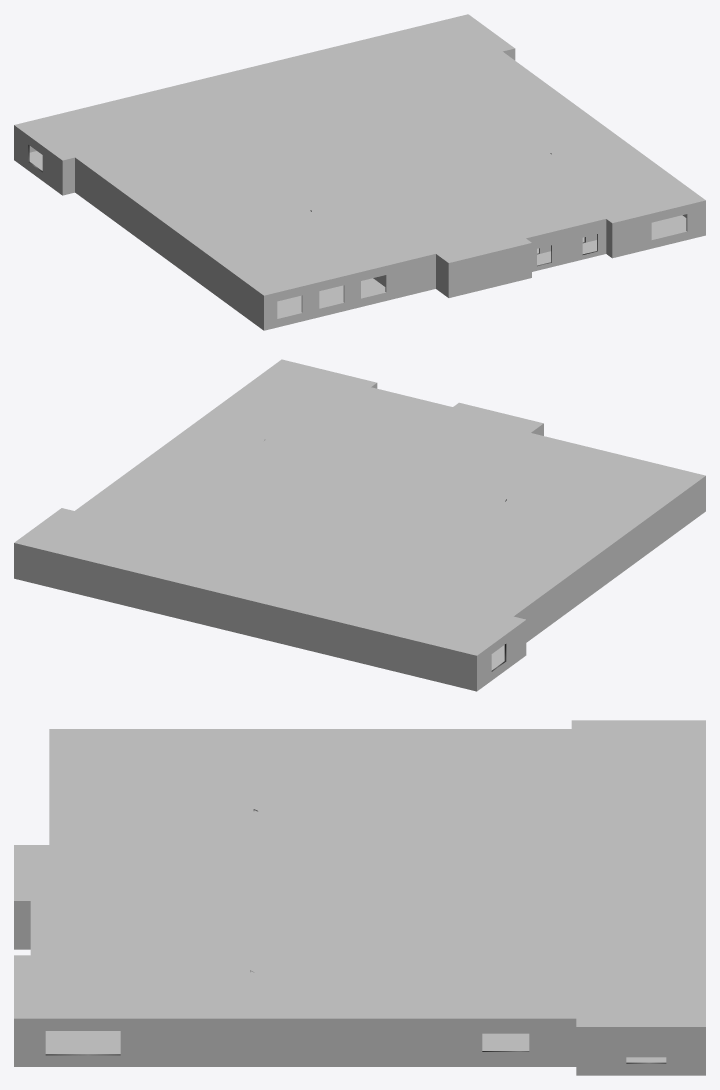
Rendered from Library.fbx.
3 renders of one model, top to bottom at view 1: azimuth 30°, elevation 25°; view 2: azimuth 150°, elevation 25°; view 3: azimuth 270°, elevation 25°, orthographic. The views are drawn at different scales.
Visible parts, largest first — view 1: Roof, Library; view 2: Roof, Library; view 3: Roof, Library.
Part boxes in pixels (x1,y1,x2,y2): Roof: (14,14,705,299); Library: (14,53,705,330); Roof: (14,359,705,660); Library: (14,387,705,691); Roof: (14,720,705,1032); Library: (14,809,705,1075).
Bounding box in the file's own units: 10835 × 829 × 10335.
